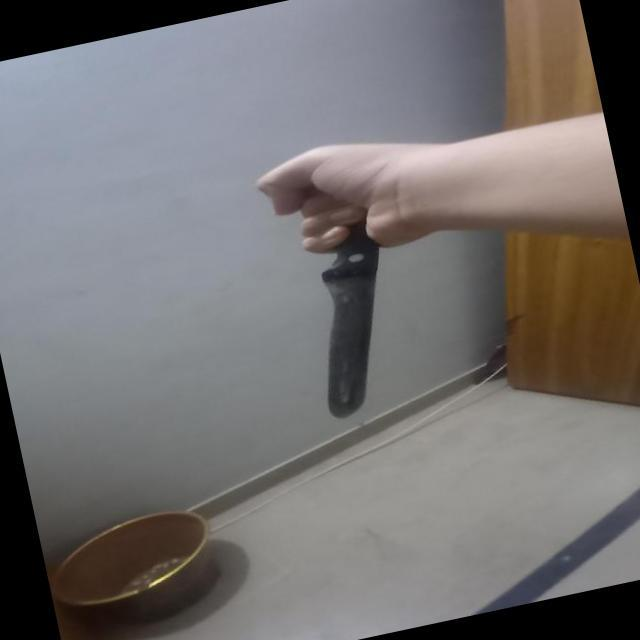Knife: (262, 159, 436, 430)
